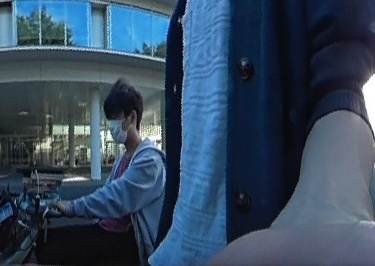person: (83, 83, 161, 266)
